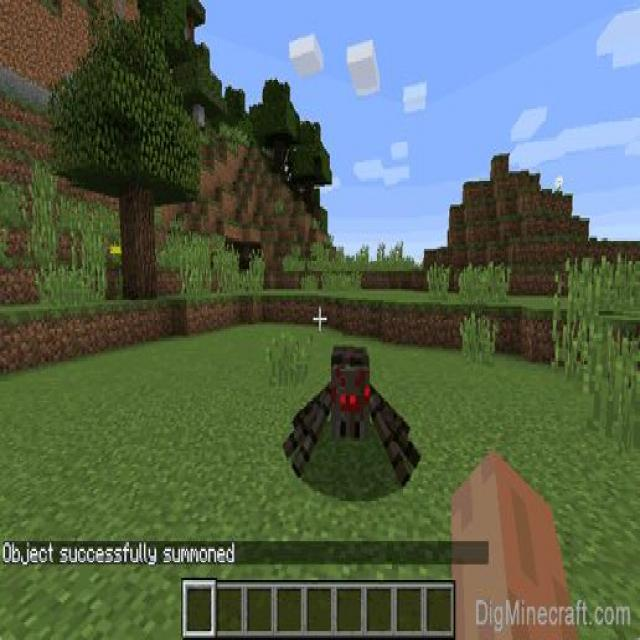Spider: (280, 338, 423, 491)
